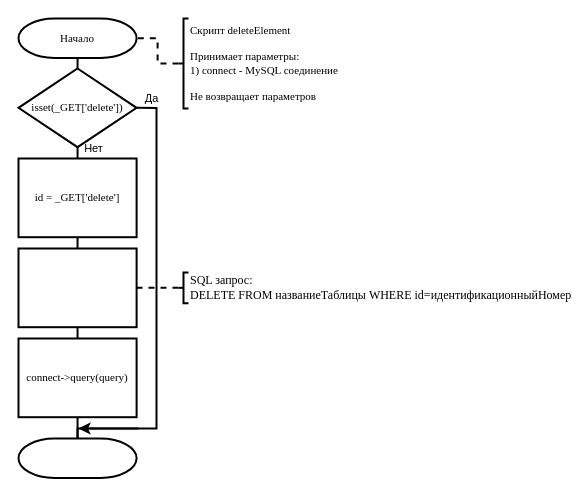
This 588x496 diagram has some shape labels left out. Here are the shapes that lost their labels. From the top down, the box of each, then its label:
(17, 247, 137, 328): query = "DELETE FROM" + table + "WHERE id=" + id
(17, 437, 137, 478): Конец
